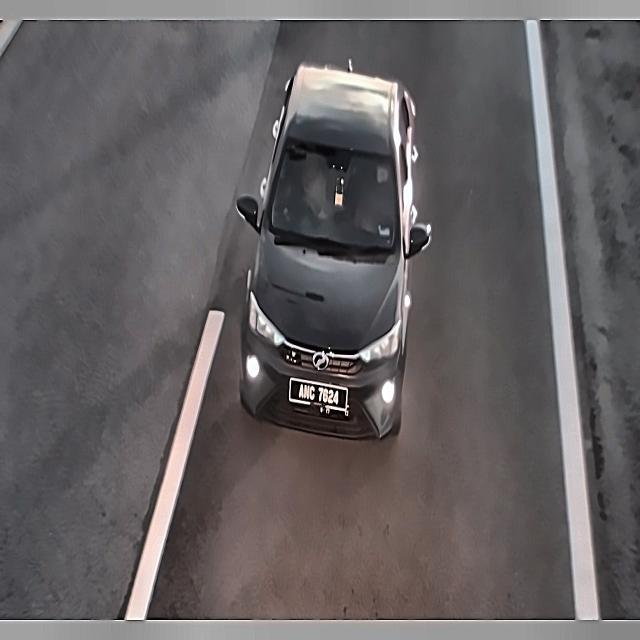car: (280, 368, 355, 418)
